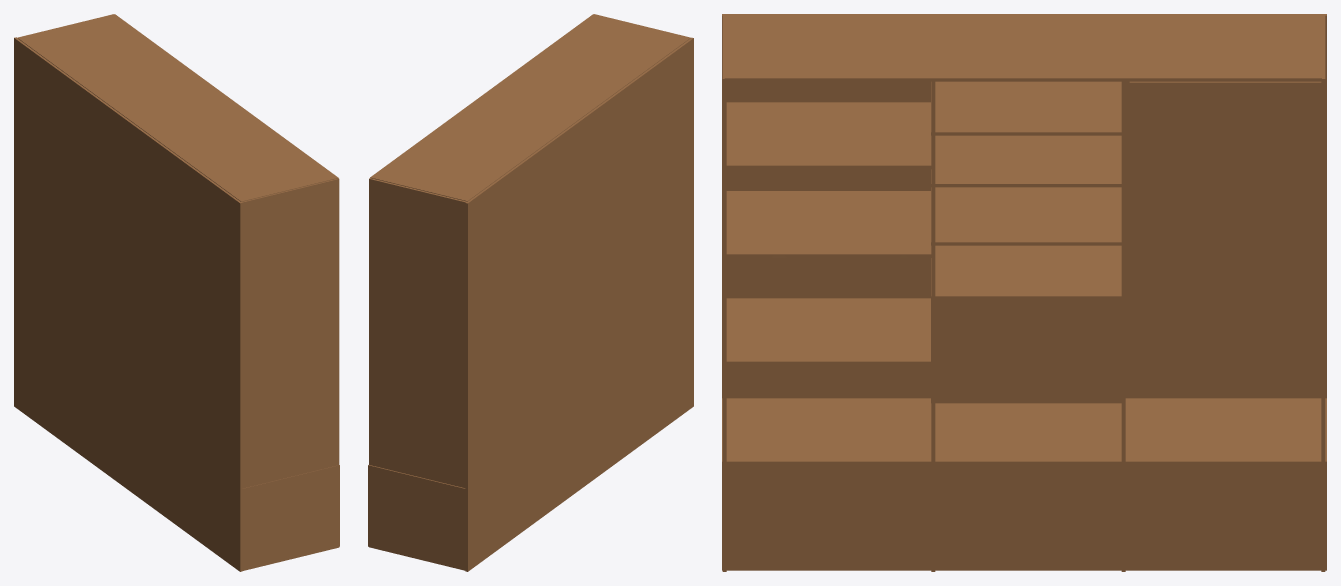
Rendered from mebloscianka.glb.
The picture shows the model from 3 angles, left to right: view 1: azimuth 30°, elevation 25°; view 2: azimuth 150°, elevation 25°; view 3: azimuth 270°, elevation 25°; orthographic projection. The views are drawn at different scales.
Parts seen in each view (by area): view 1: Cube.001, Cube.003, Cube.006; view 2: Cube.001, Cube.004, Cube.006; view 3: Cube.001, Cube.014, Cube.006, Cube.004, Cube.003, Cube.005, Cube.002.
Part boxes in pixels (box(x1,y1,x2,y2)): Cube.001: box(14, 37, 339, 571); Cube.003: box(242, 178, 339, 570); Cube.006: box(18, 14, 338, 201); Cube.001: box(368, 37, 693, 571); Cube.004: box(369, 178, 466, 570); Cube.006: box(370, 14, 690, 201); Cube.001: box(722, 14, 1326, 570); Cube.014: box(726, 81, 1323, 403); Cube.006: box(724, 14, 1321, 81); Cube.004: box(1321, 15, 1325, 571); Cube.003: box(722, 15, 726, 571); Cube.005: box(1121, 79, 1125, 571); Cube.002: box(931, 79, 935, 571).
Size of the model in its own units: 2.56 by 9.06 by 10.06.
15 materials, 15 textured.
